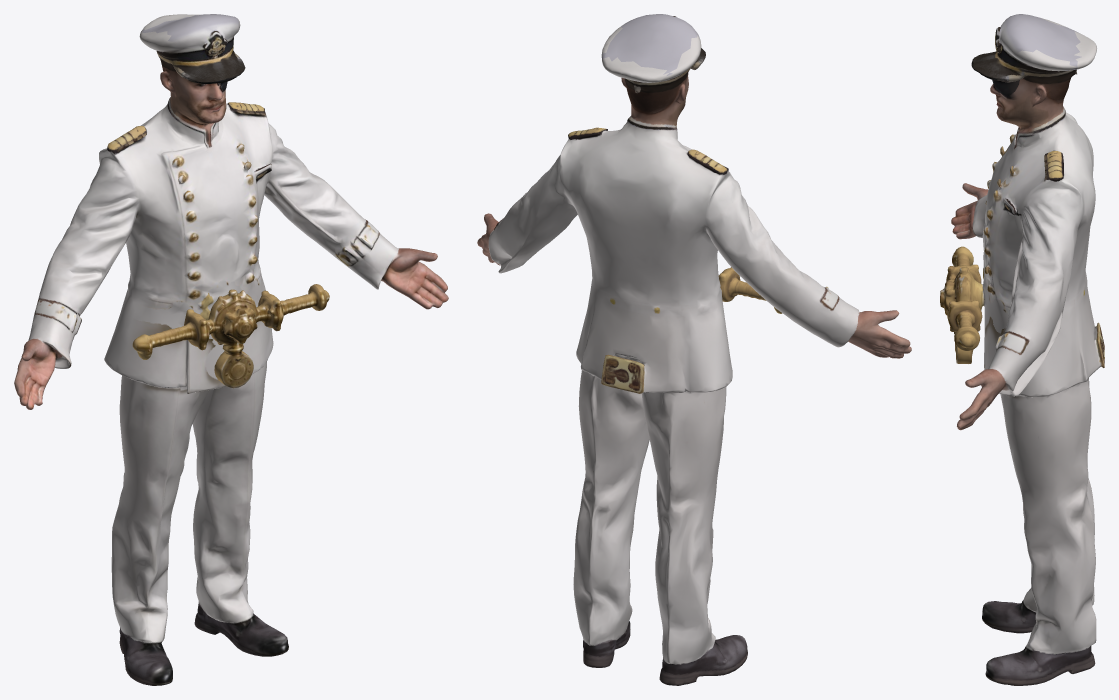
Rendered from captain-hawke_body.glb.
The picture shows the model from 3 angles, left to right: view 1: azimuth 30°, elevation 25°; view 2: azimuth 150°, elevation 25°; view 3: azimuth 270°, elevation 25°; orthographic projection. The views are drawn at different scales.
Visible parts, largest first — view 1: captain-hawke; view 2: captain-hawke; view 3: captain-hawke.
Part boxes in pixels (<box>): captain-hawke: <box>14,14,448,685</box>; captain-hawke: <box>477,14,911,685</box>; captain-hawke: <box>940,14,1104,685</box>.
Size of the model in its own units: 1.29 by 1.84 by 0.4356.
Materials: 2 (2 with a texture image).
